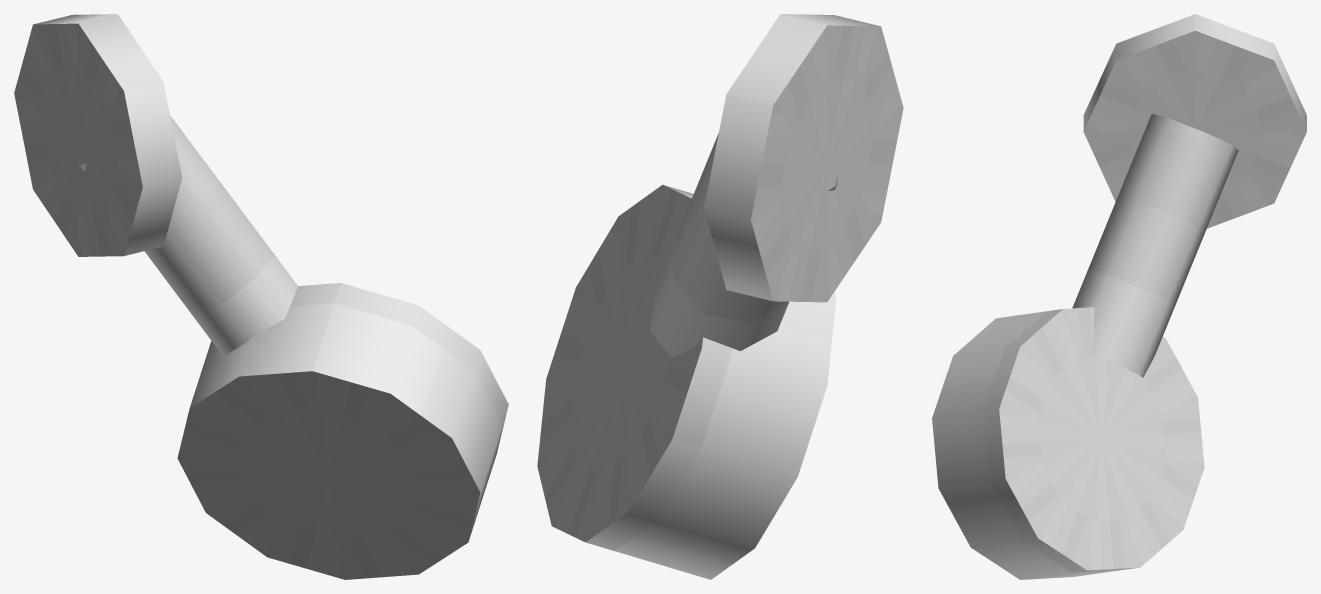
File: nycsignalarm_stub_136.obj
3 views of the same model, side by side, from view 1: azimuth 30°, elevation 25°; view 2: azimuth 150°, elevation 25°; view 3: azimuth 270°, elevation 25° (orthographic). The views are drawn at different scales.
Parts seen in each view (by area): view 1: nycsignalarm_stub_136; view 2: nycsignalarm_stub_136; view 3: nycsignalarm_stub_136.
Part boxes in pixels (<box>): nycsignalarm_stub_136: <box>14,14,508,579</box>; nycsignalarm_stub_136: <box>537,14,903,579</box>; nycsignalarm_stub_136: <box>932,14,1306,579</box>.
Bounding box in the file's own units: 0.519 × 0.8292 × 0.5874.
